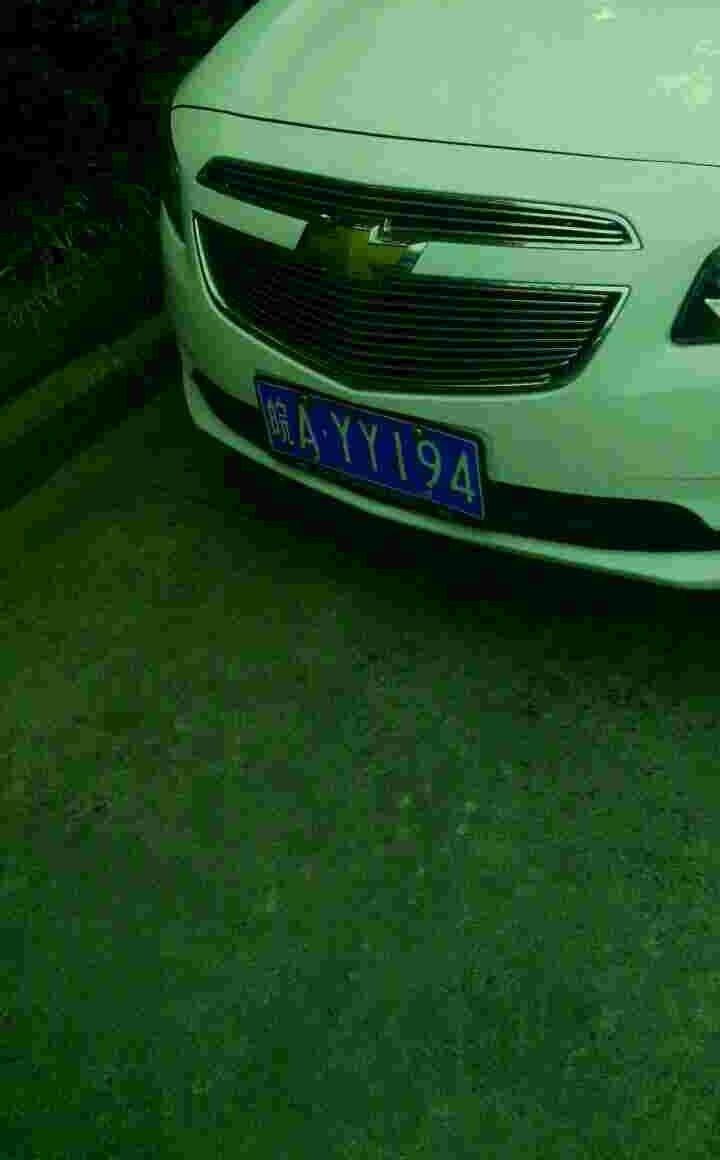license_plate: (258, 375, 488, 519)
